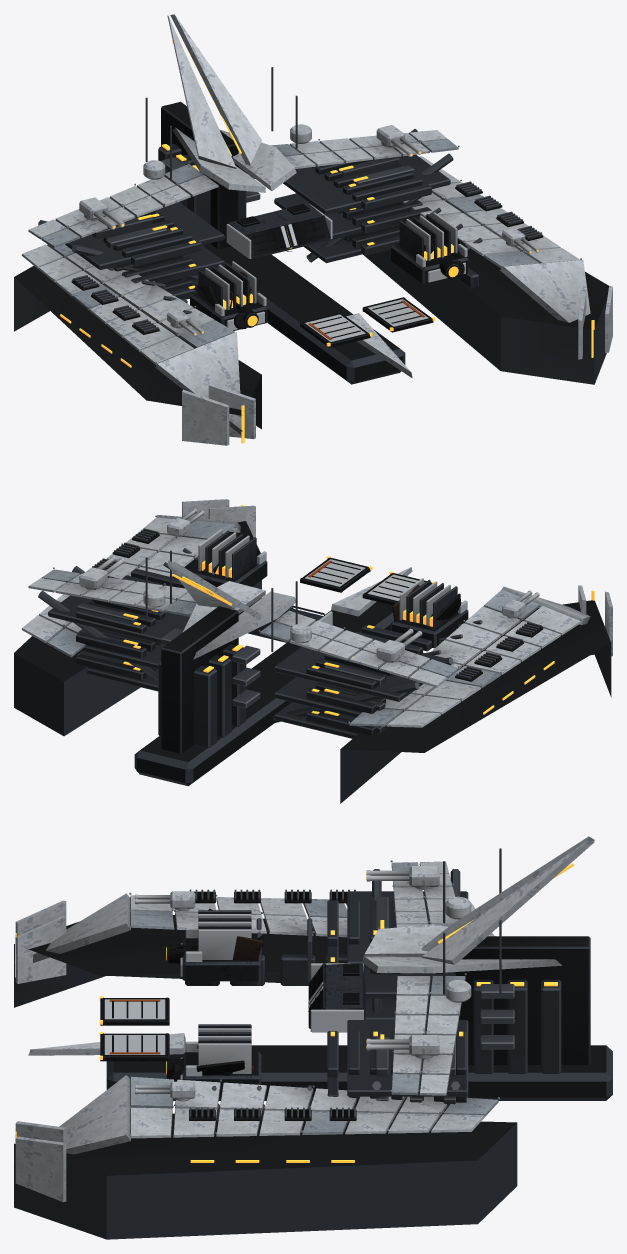
File: helion-ark-v3-study.glb
3 views of the same model, one above another, from view 1: azimuth 30°, elevation 25°; view 2: azimuth 150°, elevation 25°; view 3: azimuth 270°, elevation 25° (orthographic). The views are drawn at different scales.
Parts seen in each view (by area): view 1: ark_hull, ark_radiator_right, ark_radiator_left, ark_bridge, ark_bridge_shutter_b, ark_bridge_shutter_a, ark_bay_right_door, ark_bay_left_door, ark_bay_right, ark_bay_left; view 2: ark_hull, ark_radiator_right, ark_radiator_left, ark_bay_right_door, ark_bay_left_door, ark_bay_right, ark_radiator_left_wreck, ark_bridge; view 3: ark_hull, ark_radiator_left, ark_radiator_right, ark_bridge, ark_bay_left_door, ark_bay_right_door, ark_bay_left, ark_bay_right, ark_radiator_right_wreck, ark_radiator_left_wreck.
Part boxes in pixels (left/top/right/bottom): ark_hull: left=14, top=14, right=612, bottom=445; ark_radiator_right: left=391, top=212, right=468, bottom=284; ark_radiator_left: left=190, top=261, right=267, bottom=330; ark_bridge: left=226, top=203, right=332, bottom=259; ark_bridge_shutter_b: left=285, top=215, right=330, bottom=247; ark_bridge_shutter_a: left=245, top=224, right=291, bottom=257; ark_bay_right_door: left=368, top=299, right=428, bottom=326; ark_bay_left_door: left=305, top=314, right=365, bottom=341; ark_bay_right: left=362, top=297, right=435, bottom=332; ark_bay_left: left=300, top=312, right=372, bottom=347; ark_hull: left=14, top=499, right=612, bottom=803; ark_radiator_right: left=192, top=529, right=267, bottom=587; ark_radiator_left: left=391, top=578, right=468, bottom=648; ark_bay_right_door: left=305, top=559, right=365, bottom=586; ark_bay_left_door: left=367, top=574, right=424, bottom=600; ark_bay_right: left=300, top=556, right=372, bottom=592; ark_radiator_left_wreck: left=392, top=584, right=461, bottom=629; ark_bridge: left=238, top=600, right=332, bottom=645; ark_hull: left=14, top=836, right=612, bottom=1239; ark_radiator_left: left=166, top=910, right=261, bottom=981; ark_radiator_right: left=166, top=1024, right=261, bottom=1095; ark_bridge: left=308, top=963, right=365, bottom=1032; ark_bay_left_door: left=104, top=999, right=165, bottom=1019; ark_bay_right_door: left=104, top=1035, right=165, bottom=1054; ark_bay_left: left=99, top=996, right=169, bottom=1025; ark_bay_right: left=99, top=1032, right=169, bottom=1061; ark_radiator_right_wreck: left=166, top=1046, right=254, bottom=1081; ark_radiator_left_wreck: left=167, top=908, right=265, bottom=964.
Size of the model in its own units: 11.1 by 5.29 by 10.65.
3 materials, 1 textured.
